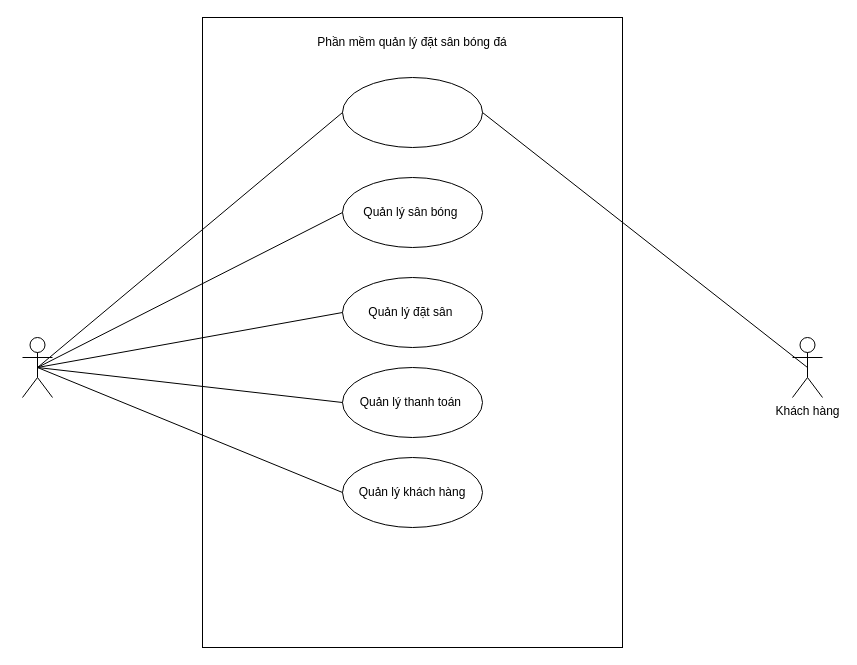
Some shapes in this 857 by 665 pixel diagram are drawn without their labels. The box of each missing label's shape, as (x1, y1, x2, y2) in pixels:
Quản lý: (22, 336, 52, 398)
Đăng nhập: (342, 76, 482, 148)
